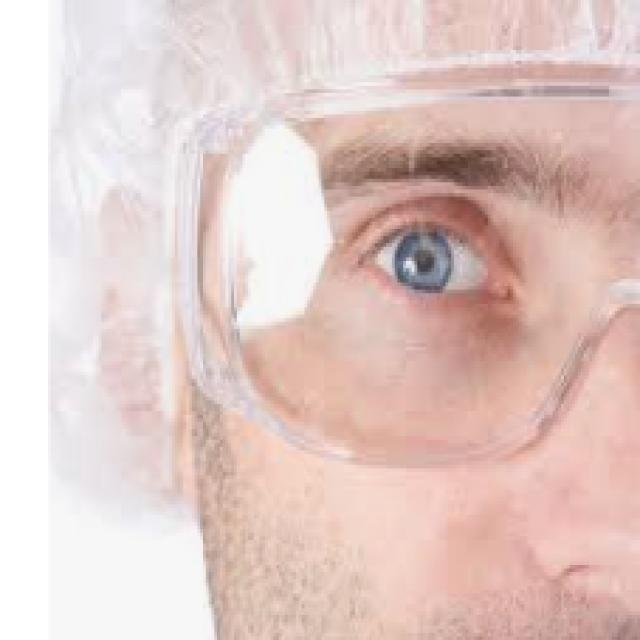glasses: (162, 84, 640, 458)
